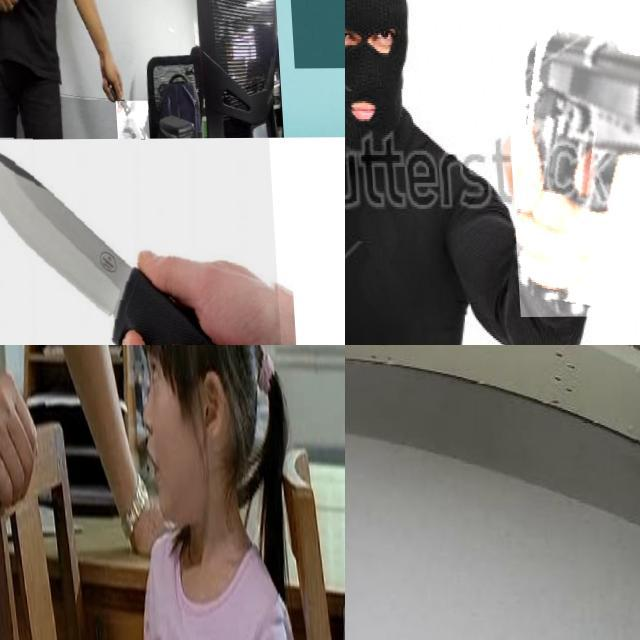-: (0, 138, 279, 345), (112, 101, 146, 139)
gun-knife-thesis - v11 Yolov5 augmented: (501, 10, 640, 317), (0, 345, 62, 494)
